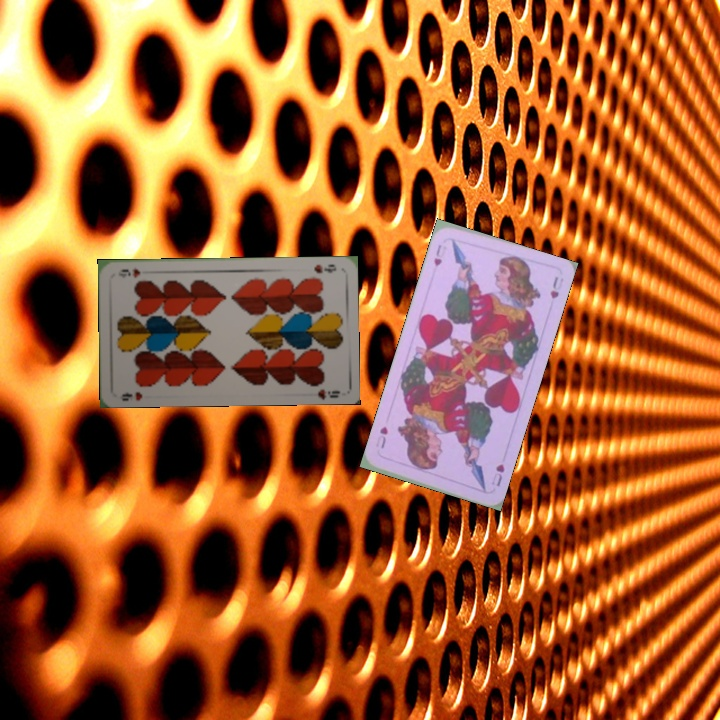H9: (310, 260, 339, 276), (118, 388, 145, 403)
HU: (487, 459, 507, 489), (430, 240, 446, 269)
